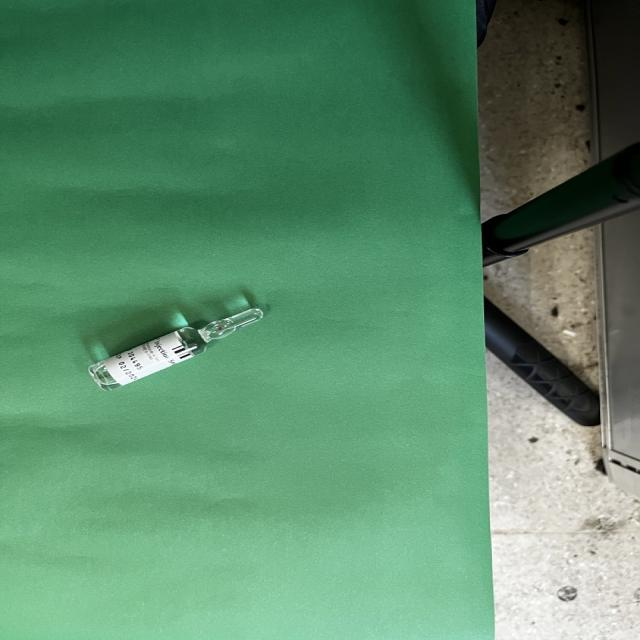Ampoules: (89, 308, 263, 390)
